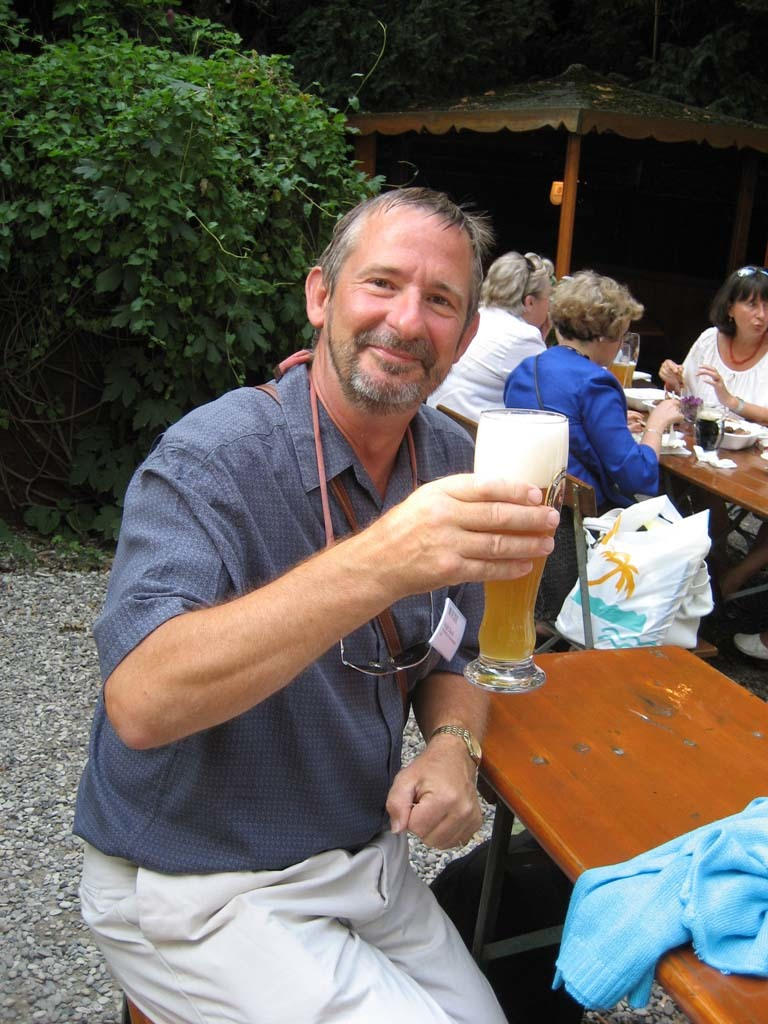Beer: (466, 398, 543, 723), (605, 334, 647, 392)
